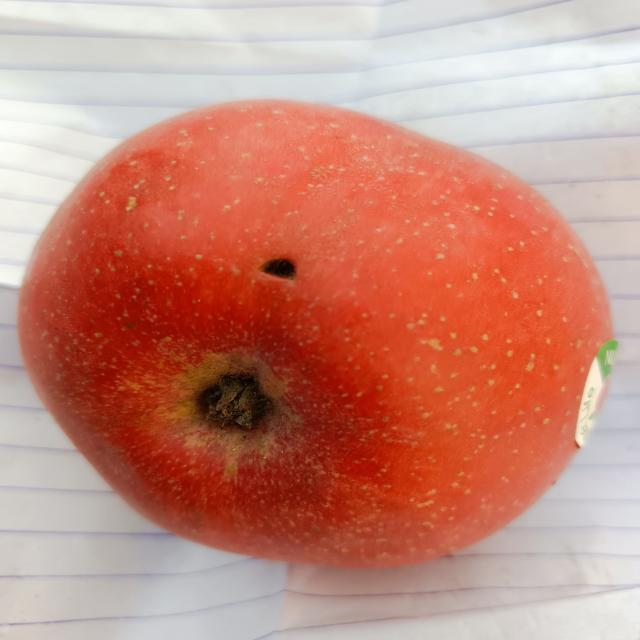Fresh Apple: (14, 97, 622, 567)
